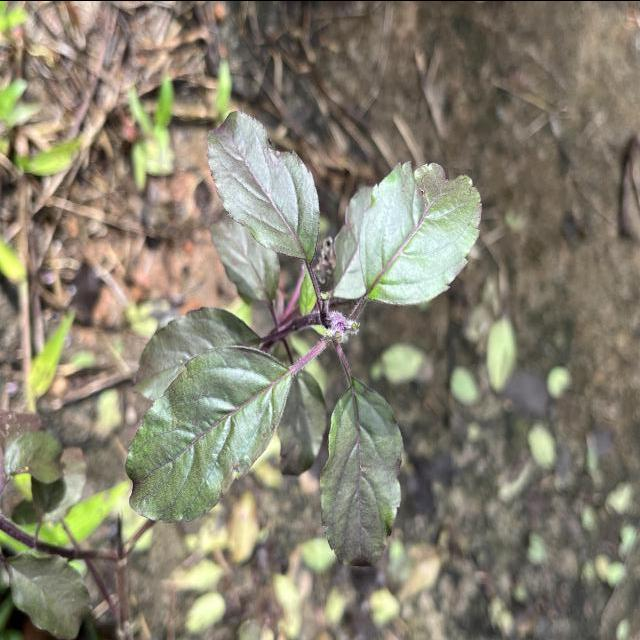Ocimum tenuiflorum: (122, 343, 293, 524), (358, 157, 484, 308), (204, 107, 322, 266), (318, 373, 406, 566)
